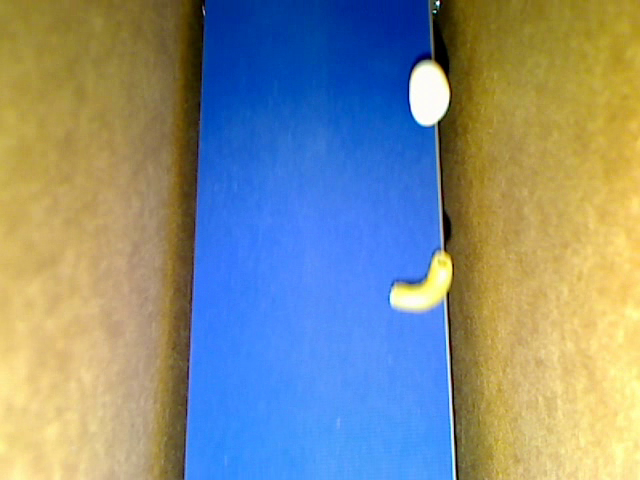elbow: (389, 248, 453, 314)
